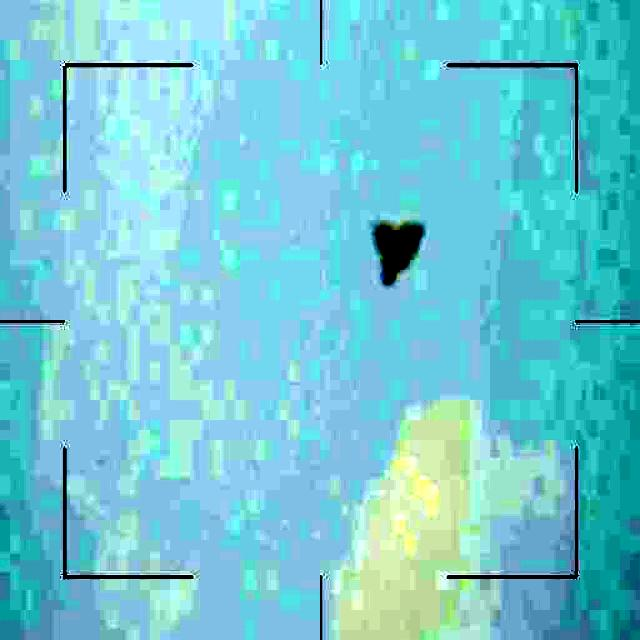bird: (375, 211, 426, 291)
